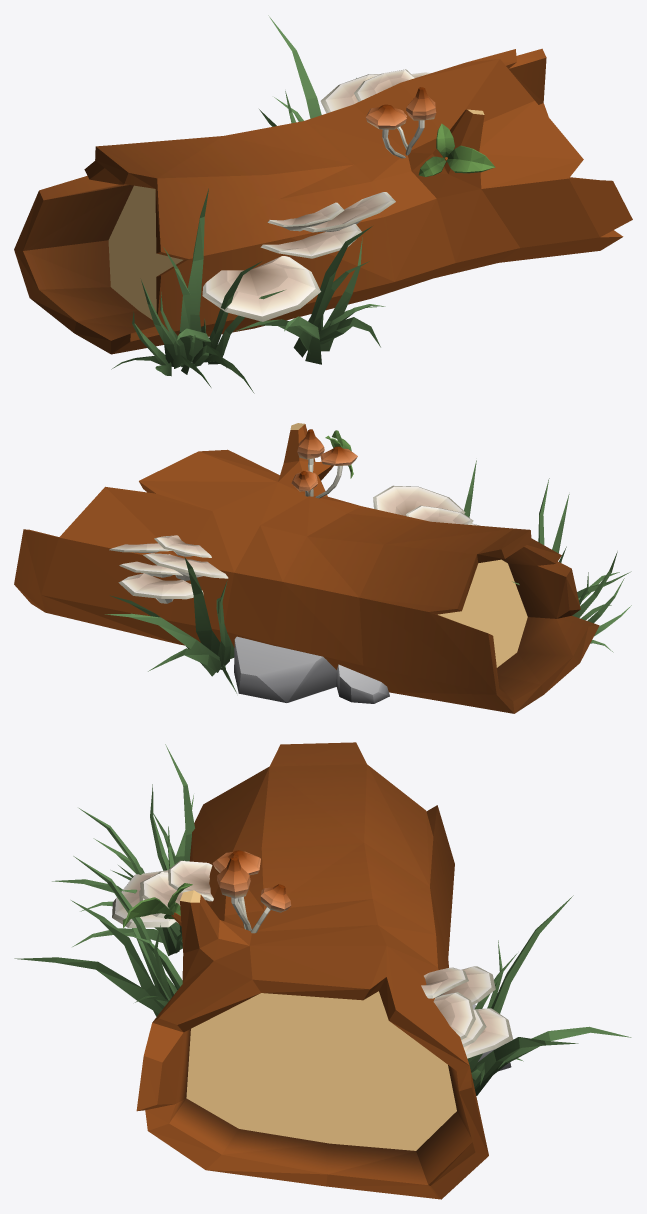
Rendered from TreeLog_B-02.FBX.
The picture shows the model from 3 angles, top to bottom: view 1: azimuth 30°, elevation 25°; view 2: azimuth 150°, elevation 25°; view 3: azimuth 270°, elevation 25°; orthographic projection. The views are drawn at different scales.
Parts seen in each view (by area): view 1: TreeLog_B-02; view 2: TreeLog_B-02; view 3: TreeLog_B-02.
Boxes of the visible parts, bbox=[...] form: TreeLog_B-02: bbox=[14, 15, 632, 393]; TreeLog_B-02: bbox=[14, 423, 631, 713]; TreeLog_B-02: bbox=[14, 742, 631, 1199].
Bounding box in the file's own units: 237 × 90.94 × 200.
Materials: 1 (1 with a texture image).
